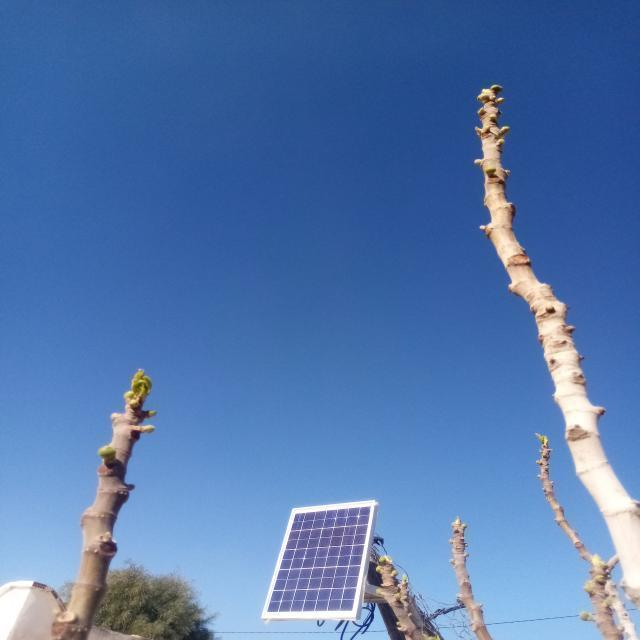Normal Solar Panel: (262, 501, 375, 619)
